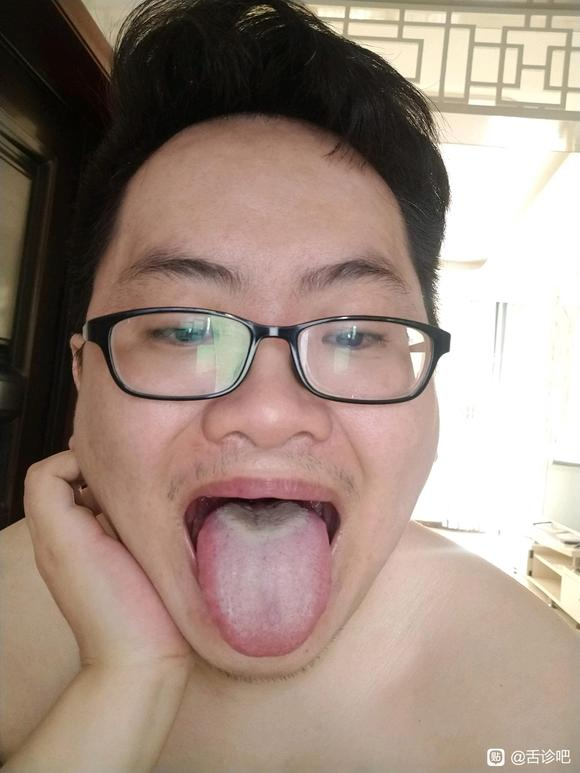huangtaishe: (194, 502, 330, 657)
